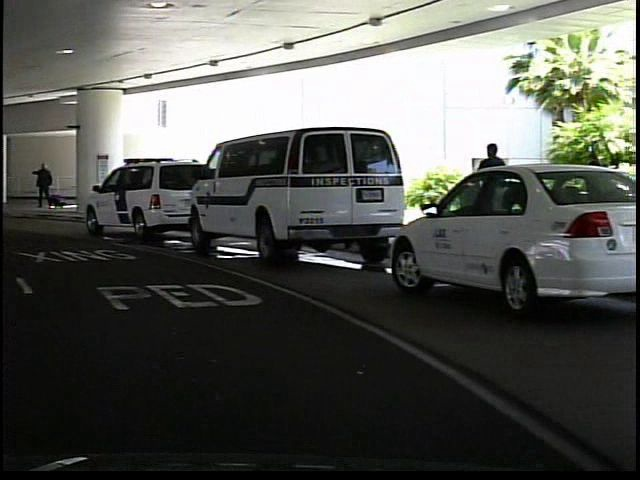person: (469, 139, 507, 256), (29, 156, 56, 216)
